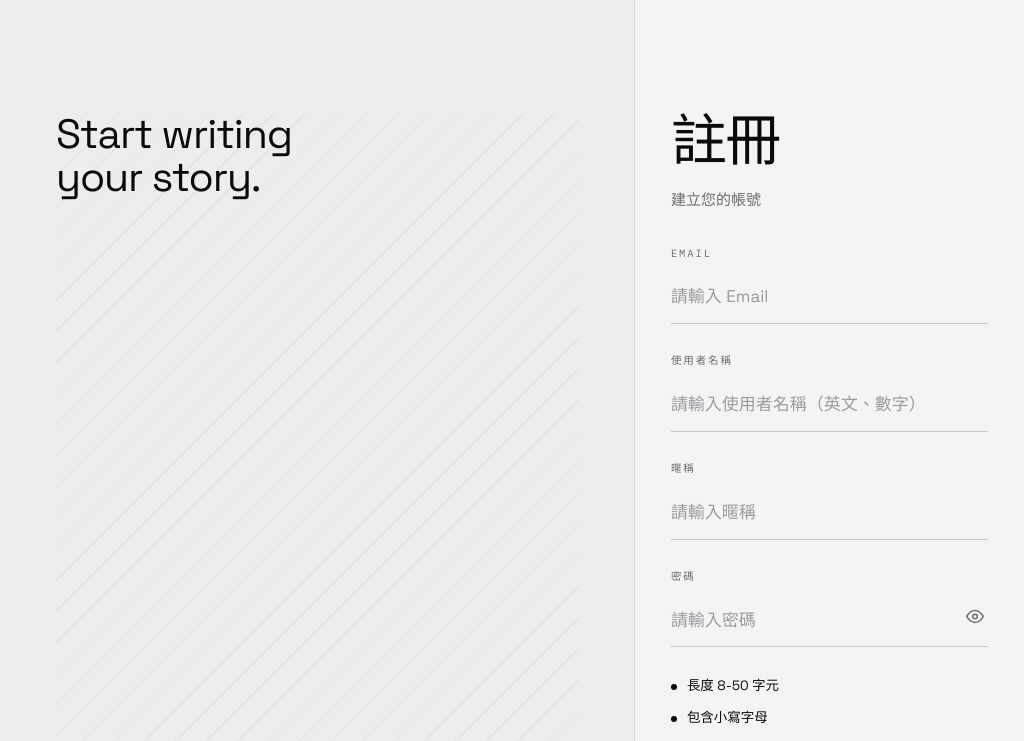
Scenario: RegisterView › 輸入密碼時顯示密碼強度指示器
Type "Abcdef1234" into the password field with placeholder "請輸入密碼" at (829, 620), box [671,594,988,647]
(page scrolled)
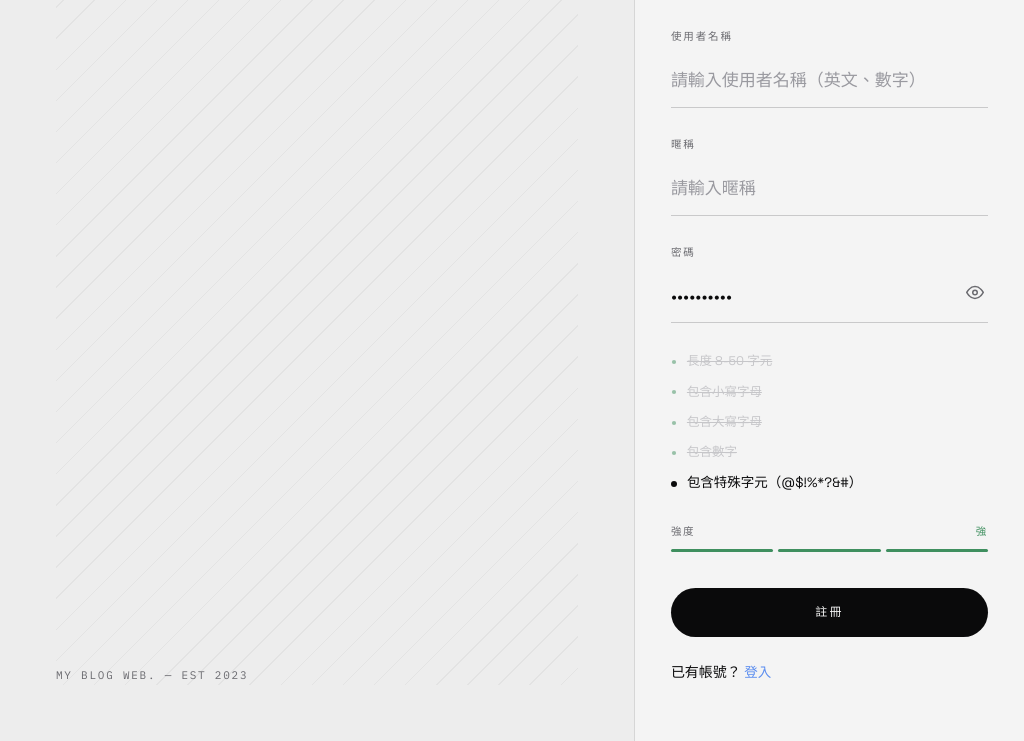
Expected: the element with test id "password-strength" is shown, [671,523,988,552]
